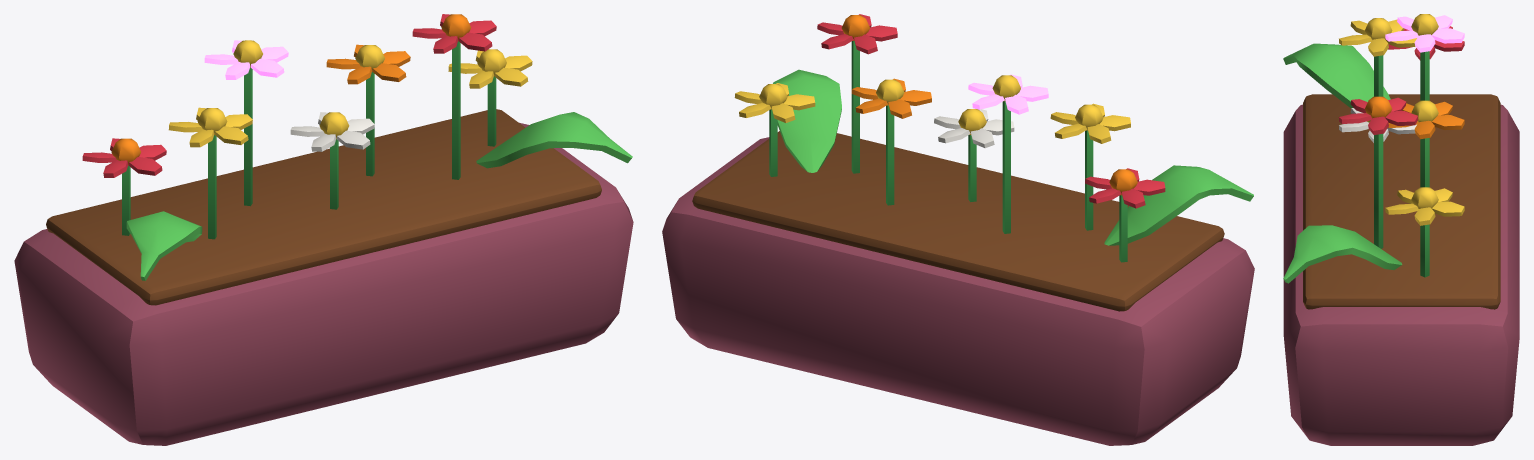
The model's file is W1_Planter.fbx.
3 views of the same model, side by side, from view 1: azimuth 30°, elevation 25°; view 2: azimuth 150°, elevation 25°; view 3: azimuth 270°, elevation 25° (orthographic). The views are drawn at different scales.
Visible parts, largest first — view 1: W1_Planter; view 2: W1_Planter; view 3: W1_Planter.
Boxes of the visible parts, x1,y1,x2,y2 form: W1_Planter: [14, 14, 633, 445]; W1_Planter: [662, 14, 1254, 445]; W1_Planter: [1283, 14, 1519, 445].
Size of the model in its own units: 2.41 by 1.46 by 1.02.
